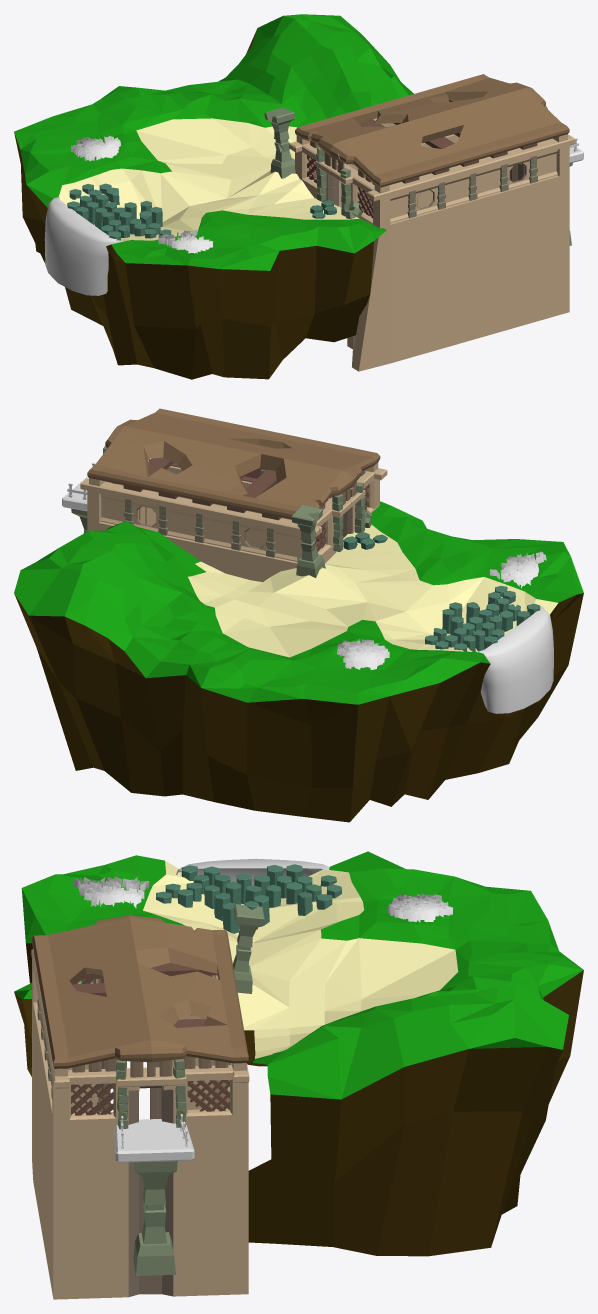
The model's file is islandDF.fbx.
3 renders of one model, top to bottom at view 1: azimuth 30°, elevation 25°; view 2: azimuth 150°, elevation 25°; view 3: azimuth 270°, elevation 25°, orthographic. The views are drawn at different scales.
Parts seen in each view (by area): view 1: otok, hram, waterfall, 6kut, stup, grass1, grass2; view 2: otok, hram, waterfall, 6kut, stup, grass1, grass2; view 3: otok, hram, 6kut, stup.001, endPlatform, stup, grass2, waterfall, grass1.
Part boxes in pixels (x1=…): otok: x1=14, y1=14, x2=413, y2=379; hram: x1=289, y1=74, x2=575, y2=371; waterfall: x1=44, y1=196, x2=123, y2=295; 6kut: x1=67, y1=183, x2=171, y2=240; stup: x1=264, y1=107, x2=295, y2=178; grass1: x1=71, y1=135, x2=120, y2=161; grass2: x1=158, y1=229, x2=213, y2=253; otok: x1=14, y1=501, x2=583, y2=822; hram: x1=80, y1=408, x2=387, y2=582; waterfall: x1=477, y1=606, x2=553, y2=713; 6kut: x1=425, y1=585, x2=540, y2=651; stup: x1=291, y1=505, x2=325, y2=577; grass1: x1=337, y1=639, x2=389, y2=669; grass2: x1=490, y1=551, x2=546, y2=588; otok: x1=14, y1=851, x2=583, y2=1256; hram: x1=31, y1=915, x2=249, y2=1299; 6kut: x1=156, y1=864, x2=341, y2=933; stup.001: x1=133, y1=1161, x2=177, y2=1275; endPlatform: x1=114, y1=1119, x2=194, y2=1162; stup: x1=233, y1=904, x2=264, y2=993; grass2: x1=73, y1=876, x2=149, y2=908; waterfall: x1=176, y1=858, x2=329, y2=885; grass1: x1=388, y1=893, x2=452, y2=922.
Size of the model in its own units: 6699 by 8283 by 3402.
